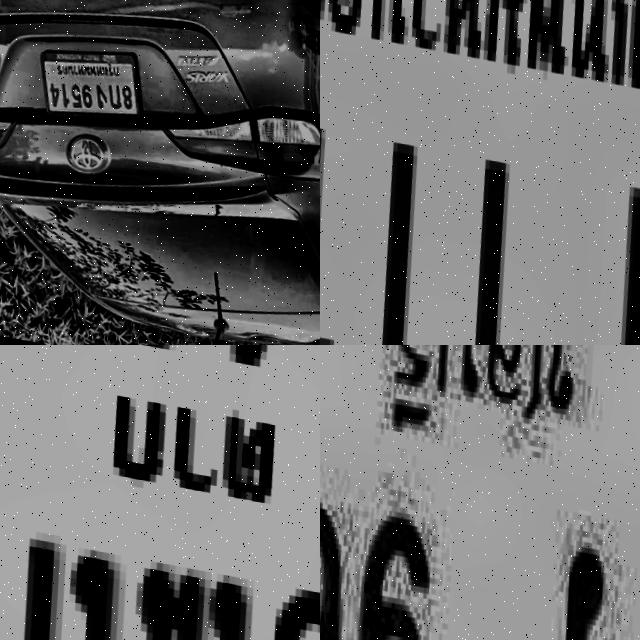license-plate: (320, 0, 640, 345), (0, 345, 320, 640), (320, 345, 640, 640), (24, 28, 146, 135)
